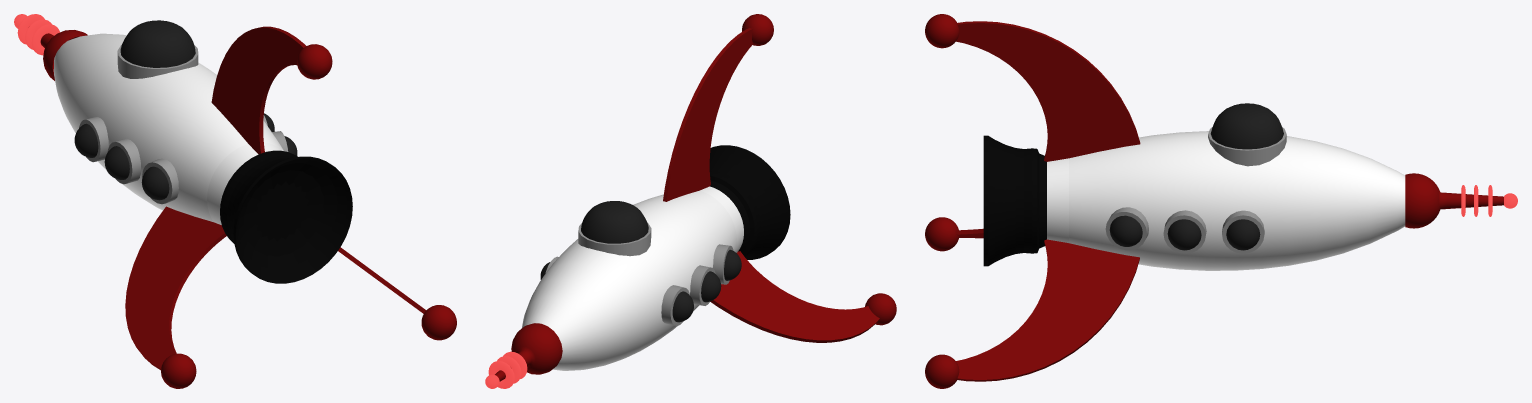
Rendered from Rocket.glb.
The picture shows the model from 3 angles, left to right: view 1: azimuth 30°, elevation 25°; view 2: azimuth 150°, elevation 25°; view 3: azimuth 270°, elevation 25°; orthographic projection. The views are drawn at different scales.
Parts seen in each view (by area): view 1: rocket_0; view 2: rocket_0; view 3: rocket_0.
Part boxes in pixels (box(x1,y1,x2,y2)): rocket_0: box(14, 14, 456, 388); rocket_0: box(485, 14, 896, 388); rocket_0: box(925, 14, 1517, 388).
Bounding box in the file's own units: 9.51 × 10.09 × 17.33.
